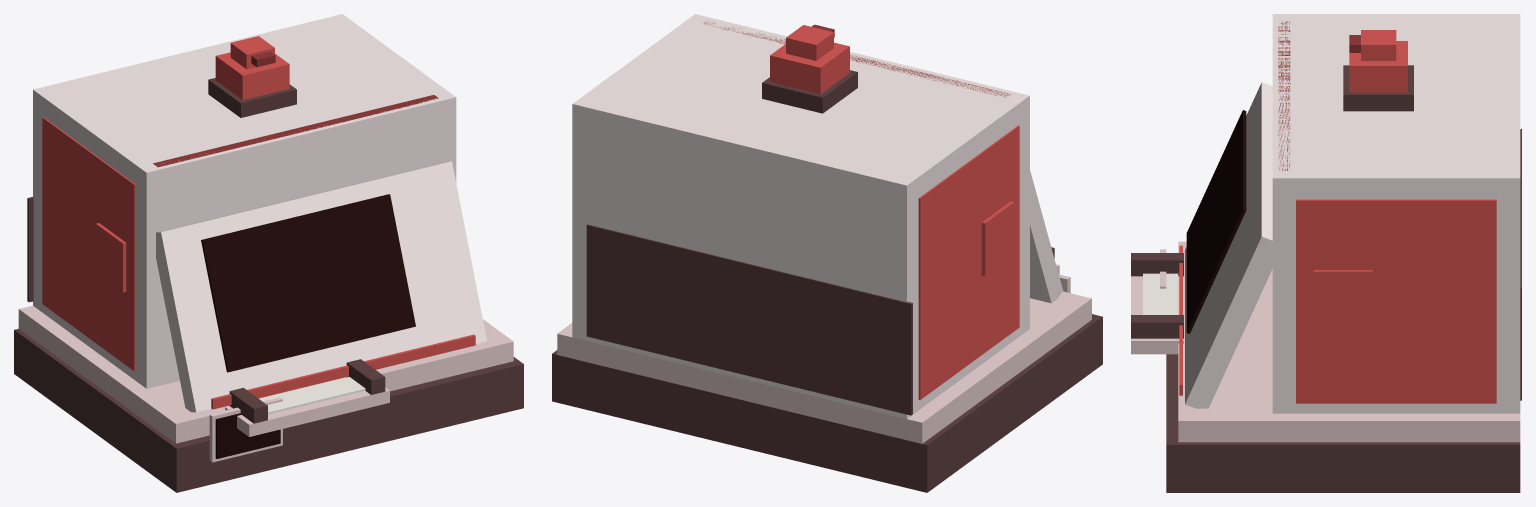
The model's file is loss_terminal.obj.
3 views of the same model, side by side, from view 1: azimuth 30°, elevation 25°; view 2: azimuth 150°, elevation 25°; view 3: azimuth 270°, elevation 25° (orthographic). The views are drawn at different scales.
Parts seen in each view (by area): view 1: loss_terminal_e02, loss_terminal_e03, loss_terminal_e04, loss_terminal_e00, loss_terminal_e14, loss_terminal_e01, loss_terminal_e05, loss_terminal_e06, loss_terminal_e11, loss_terminal_e10, loss_terminal_e09, loss_terminal_e16 (+7 smaller); view 2: loss_terminal_e02, loss_terminal_e17, loss_terminal_e00, loss_terminal_e14, loss_terminal_e01, loss_terminal_e11, loss_terminal_e03, loss_terminal_e10, loss_terminal_e20, loss_terminal_e12, loss_terminal_e16; view 3: loss_terminal_e02, loss_terminal_e15, loss_terminal_e00, loss_terminal_e01, loss_terminal_e03, loss_terminal_e04, loss_terminal_e21, loss_terminal_e11, loss_terminal_e10, loss_terminal_e09, loss_terminal_e06, loss_terminal_e08 (+5 smaller).
Part boxes in pixels (x1=…): loss_terminal_e02: x1=33, y1=14, x2=456, y2=388; loss_terminal_e03: x1=156, y1=161, x2=486, y2=412; loss_terminal_e04: x1=201, y1=194, x2=415, y2=372; loss_terminal_e00: x1=14, y1=328, x2=523, y2=492; loss_terminal_e14: x1=42, y1=117, x2=135, y2=371; loss_terminal_e01: x1=18, y1=305, x2=513, y2=443; loss_terminal_e05: x1=211, y1=334, x2=475, y2=409; loss_terminal_e06: x1=225, y1=377, x2=389, y2=436; loss_terminal_e11: x1=215, y1=52, x2=289, y2=99; loss_terminal_e10: x1=208, y1=78, x2=296, y2=117; loss_terminal_e09: x1=259, y1=377, x2=365, y2=414; loss_terminal_e16: x1=153, y1=95, x2=438, y2=167; loss_terminal_e02: x1=572, y1=14, x2=1029, y2=418; loss_terminal_e17: x1=586, y1=224, x2=912, y2=415; loss_terminal_e00: x1=552, y1=314, x2=1102, y2=492; loss_terminal_e14: x1=918, y1=125, x2=1019, y2=399; loss_terminal_e01: x1=557, y1=291, x2=1091, y2=443; loss_terminal_e11: x1=770, y1=42, x2=849, y2=94; loss_terminal_e03: x1=1030, y1=170, x2=1063, y2=303; loss_terminal_e10: x1=762, y1=70, x2=857, y2=113; loss_terminal_e20: x1=981, y1=201, x2=1014, y2=276; loss_terminal_e12: x1=786, y1=25, x2=833, y2=60; loss_terminal_e16: x1=704, y1=22, x2=1011, y2=97; loss_terminal_e02: x1=1272, y1=14, x2=1520, y2=413; loss_terminal_e15: x1=1296, y1=199, x2=1496, y2=403; loss_terminal_e00: x1=1166, y1=354, x2=1520, y2=492; loss_terminal_e01: x1=1178, y1=241, x2=1520, y2=442; loss_terminal_e03: x1=1185, y1=82, x2=1272, y2=408; loss_terminal_e04: x1=1186, y1=110, x2=1246, y2=333; loss_terminal_e21: x1=1313, y1=270, x2=1372, y2=325; loss_terminal_e11: x1=1349, y1=41, x2=1407, y2=92; loss_terminal_e10: x1=1343, y1=65, x2=1413, y2=111; loss_terminal_e09: x1=1143, y1=273, x2=1178, y2=314; loss_terminal_e06: x1=1131, y1=276, x2=1183, y2=354; loss_terminal_e08: x1=1131, y1=315, x2=1183, y2=338.
Bounding box in the file's own units: 0.925 × 0.85 × 0.8288.
